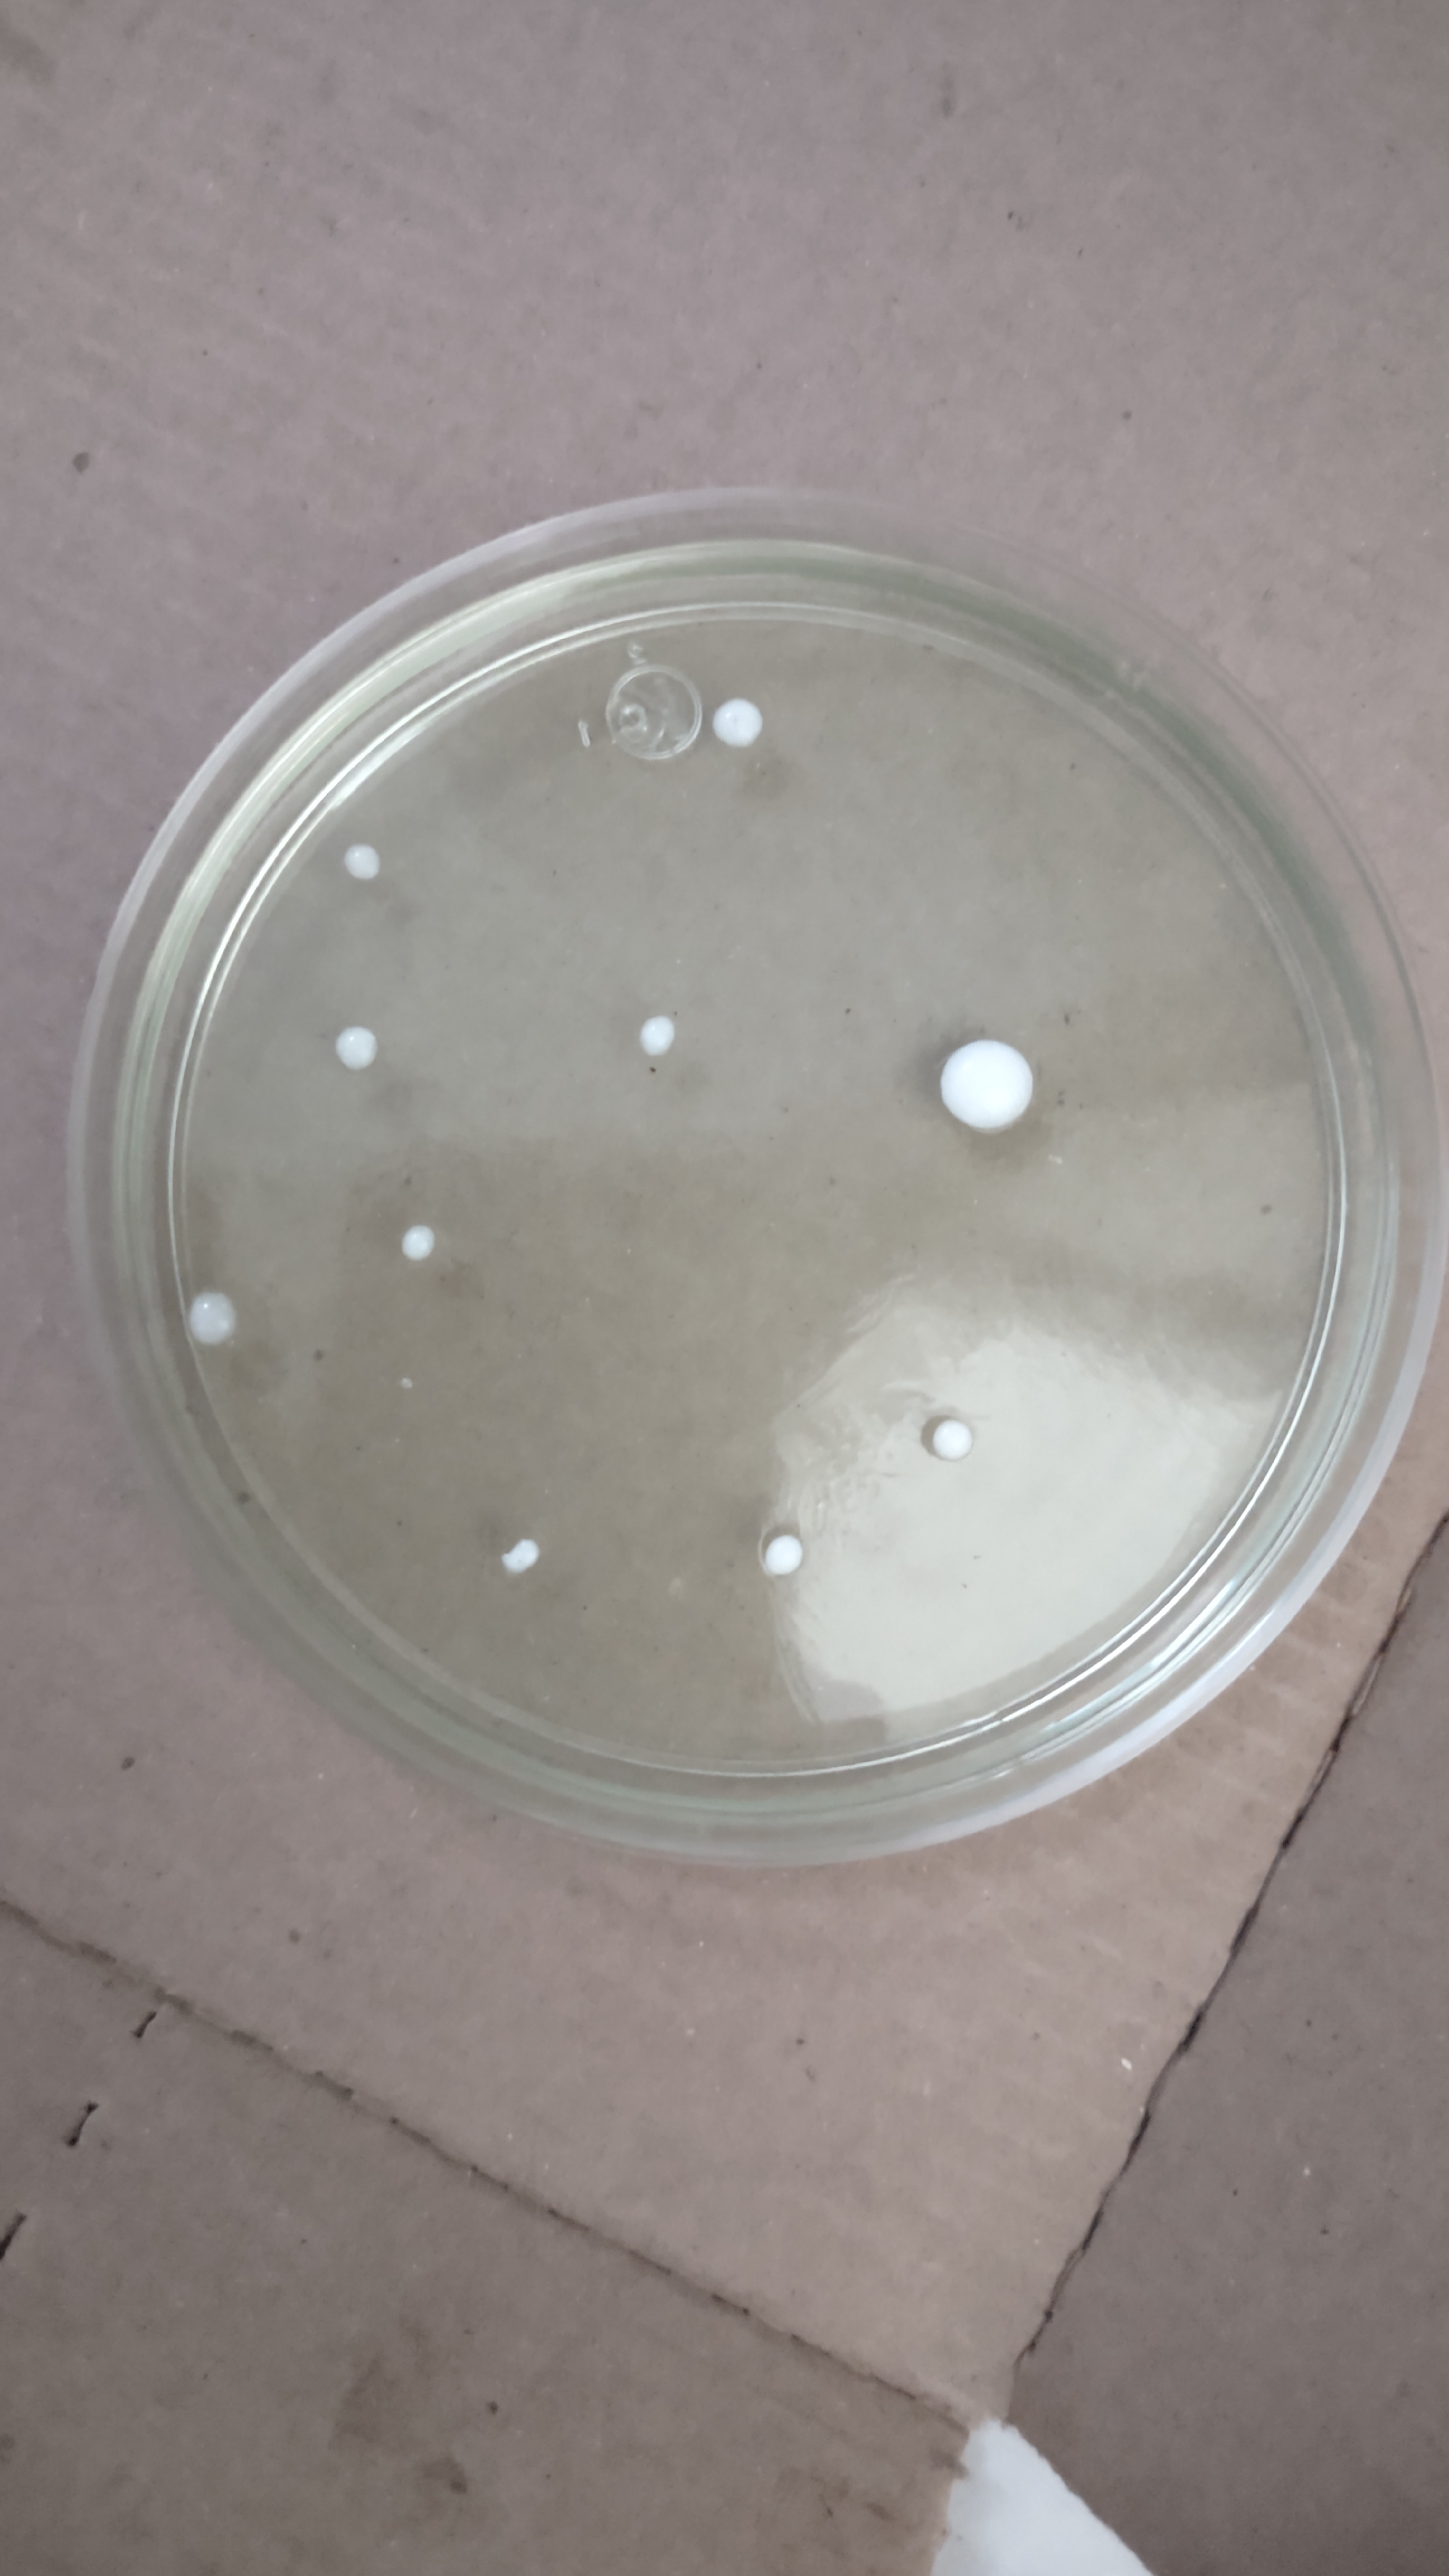Colonia: (938, 1035, 1039, 1141), (709, 697, 775, 752), (186, 1288, 237, 1353), (925, 1415, 984, 1468), (752, 1529, 812, 1576), (334, 1023, 377, 1072), (396, 1224, 439, 1265), (639, 1014, 678, 1058), (345, 844, 386, 883), (502, 1537, 541, 1578)
